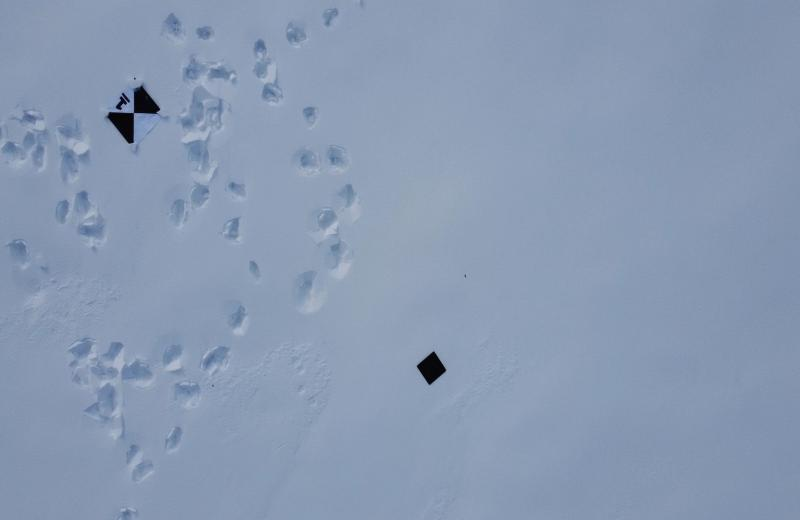Square: (416, 349, 448, 386)
